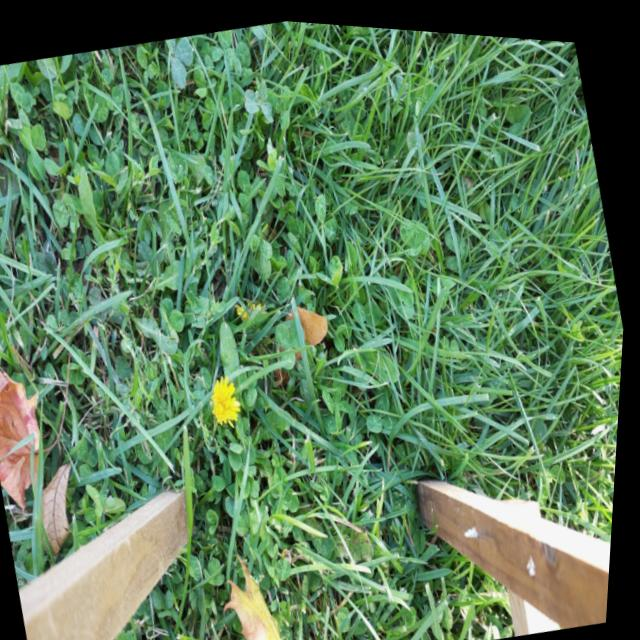base: (187, 423, 219, 465), (247, 412, 271, 447)
